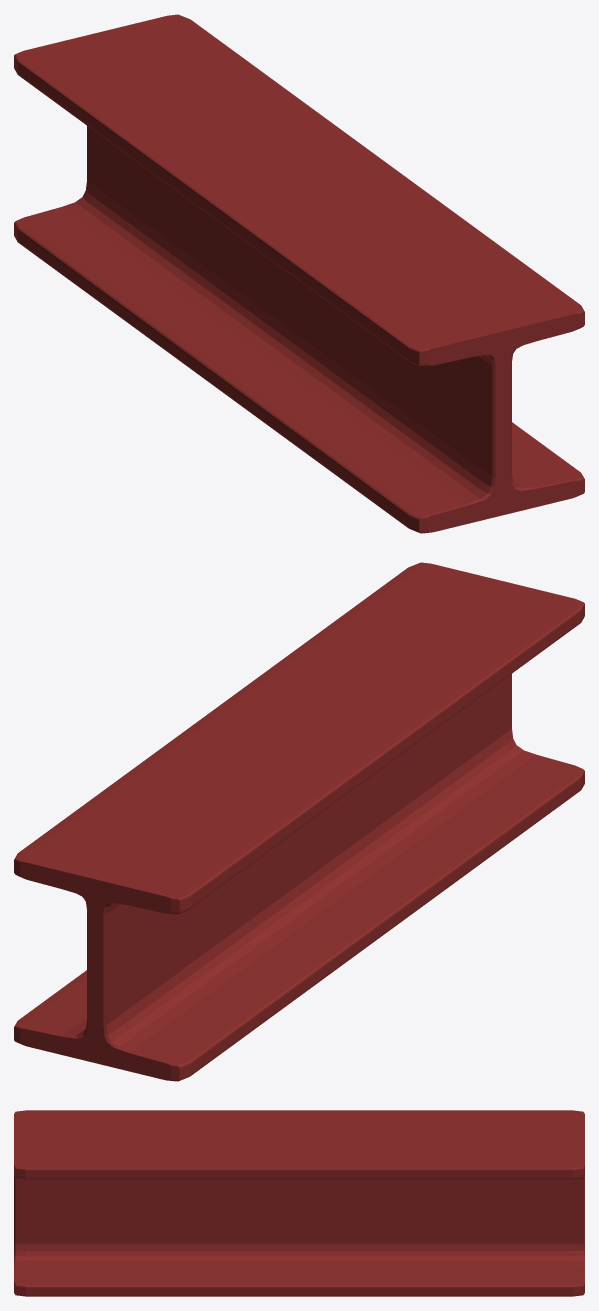
File: steel_straight_4.fbx
The picture shows the model from 3 angles, top to bottom: view 1: azimuth 30°, elevation 25°; view 2: azimuth 150°, elevation 25°; view 3: azimuth 270°, elevation 25°; orthographic projection. The views are drawn at different scales.
Parts seen in each view (by area): view 1: Cube; view 2: Cube; view 3: Cube.
Part boxes in pixels (x1,y1,x2,y2): Cube: (14, 14, 584, 533); Cube: (14, 562, 584, 1081); Cube: (14, 1110, 584, 1296).
Bounding box in the file's own units: 98.18 × 99.55 × 400.
